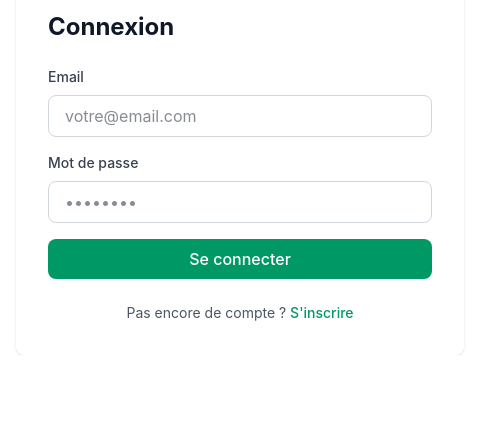
it: LoginForm › devrait afficher un message d'erreur en cas d'échec
The width and height of the screenshot is (481, 438).
Type "wrong@example.com" into the field labelled "Email".
click(240, 116); type("wrong@example.com")  # box [48,95,432,137]
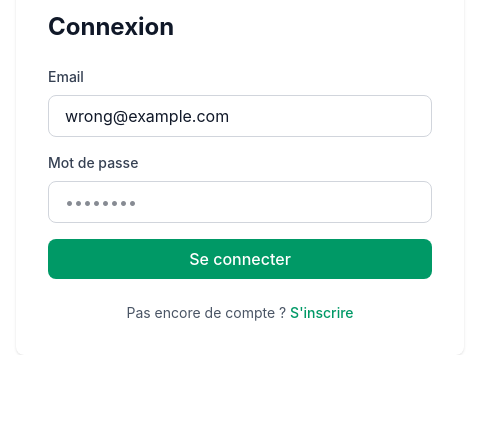
Type "wrongpassword" into the password field labelled "Mot de passe".
click(240, 202); type("wrongpassword")  # box [48,181,432,223]
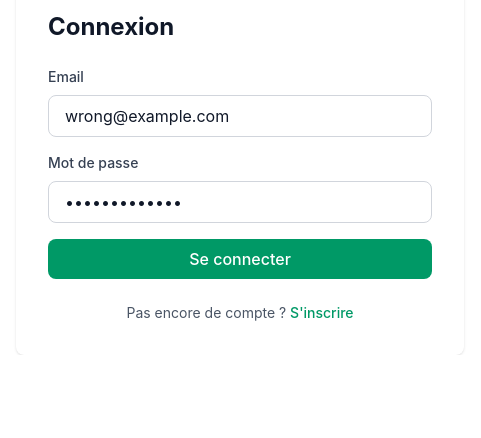
Submit the form "Email Mot de passe Se connecter", box [48,67,432,279]
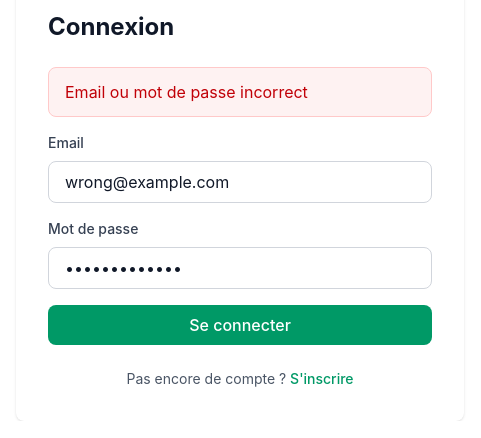
Now the text "Email ou mot de passe incorrect" is shown, box [48,67,432,117]
